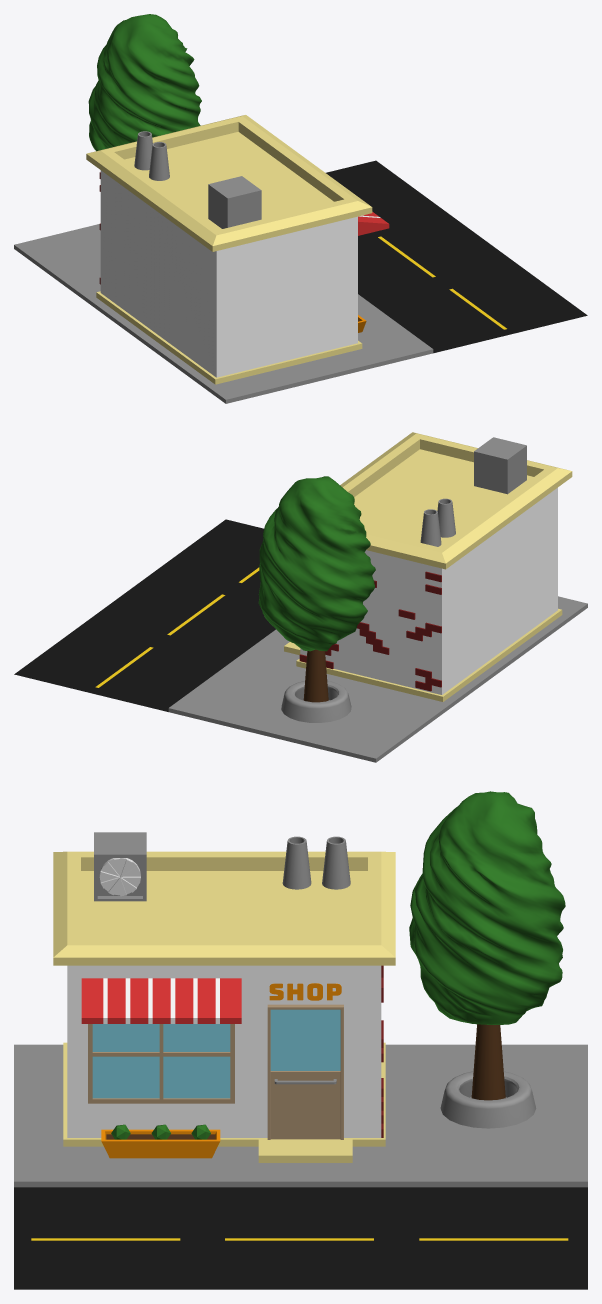
Rendered from shop.glb.
3 renders of one model, top to bottom at view 1: azimuth 30°, elevation 25°; view 2: azimuth 150°, elevation 25°; view 3: azimuth 270°, elevation 25°, orthographic. The views are drawn at different scales.
Parts seen in each view (by area): view 1: pCube2, pCube1, pCube8, pCube9, pCylinder3, pCylinder2, pCube6; view 2: pCube1, pCube2, pCube8, pCube9, pPipe1, pCylinder1, pCylinder2, pCylinder3; view 3: pCube1, pCube2, pCube8, pCube3, pCube4, pCube6, pPipe1, pCube7, pCube9, pCylinder1, pCylinder4, pCylinder2 (+2 smaller).
Boxes of the visible parts, box(x1,y1,x2,y2) form: pCube2: box(86, 115, 372, 384); pCube1: box(14, 160, 587, 403); pCube8: box(88, 14, 201, 151); pCube9: box(208, 176, 261, 228); pCylinder3: box(149, 142, 169, 180); pCylinder2: box(134, 131, 152, 170); pCube6: box(358, 212, 389, 235); pCube1: box(14, 519, 587, 762); pCube2: box(284, 432, 572, 701); pCube8: box(258, 476, 375, 651); pCube9: box(474, 437, 526, 494); pPipe1: box(281, 681, 351, 722); pCylinder1: box(303, 649, 328, 702); pCylinder2: box(420, 509, 441, 546); pCylinder3: box(437, 498, 455, 537); pCube1: box(14, 1044, 587, 1289); pCube2: box(53, 851, 395, 1162); pCube8: box(409, 791, 565, 1024); pCube3: box(88, 1024, 234, 1103); pCube4: box(267, 1004, 343, 1139); pCube6: box(81, 978, 241, 1023); pPipe1: box(440, 1071, 536, 1128); pCube7: box(101, 1129, 220, 1158); pCube9: box(94, 832, 146, 901); pCylinder1: box(471, 1024, 505, 1100); pCylinder4: box(99, 858, 140, 896); pCylinder2: box(322, 836, 350, 889).
Size of the model in its own units: 0.596 by 0.3717 by 0.6041.
